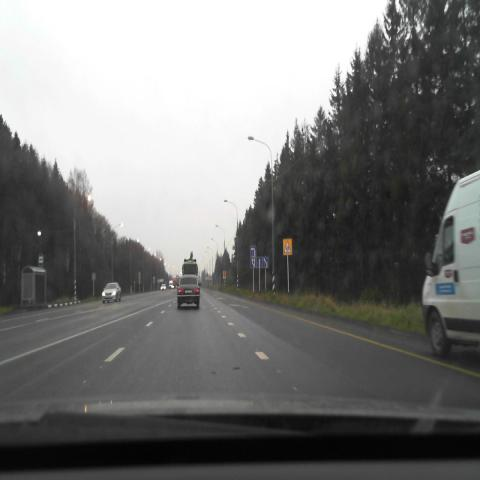1_23: (283, 238, 292, 255)
